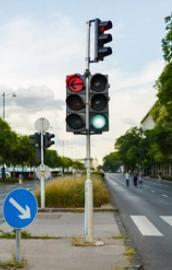green_light: (88, 73, 110, 132)
red_light: (65, 74, 87, 131)
